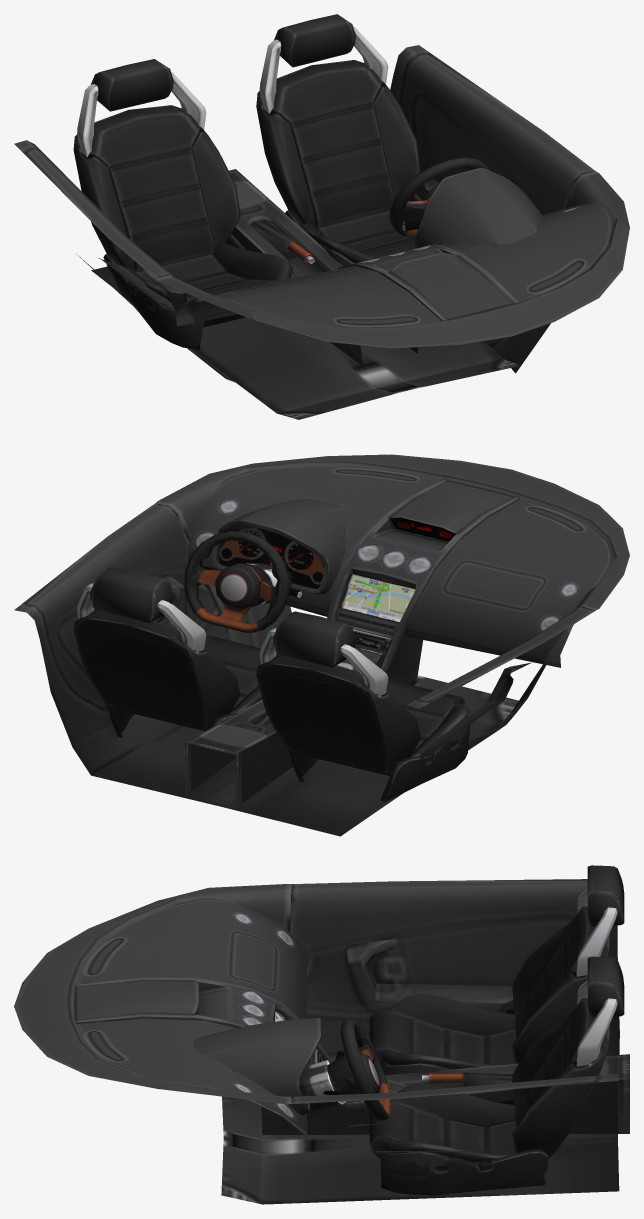
File: Car_11_Interior.FBX
3 views of the same model, one above another, from view 1: azimuth 30°, elevation 25°; view 2: azimuth 150°, elevation 25°; view 3: azimuth 270°, elevation 25° (orthographic). The views are drawn at different scales.
Visible parts, largest first — view 1: Car_11_Interior_C; view 2: Car_11_Interior_C; view 3: Car_11_Interior_C.
Part boxes in pixels (x1,y1,x2,y2): Car_11_Interior_C: (14, 14, 629, 419); Car_11_Interior_C: (14, 454, 629, 836); Car_11_Interior_C: (14, 865, 629, 1204).
Size of the model in its own units: 1.4 by 1.66 by 0.6689.
